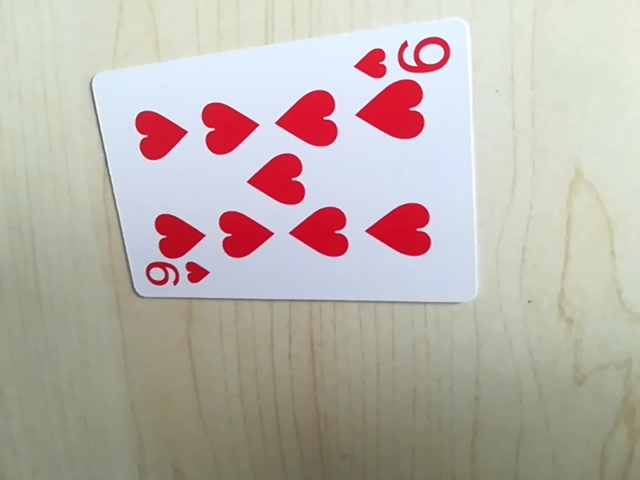hx 9: (353, 29, 457, 84), (141, 258, 208, 296)
